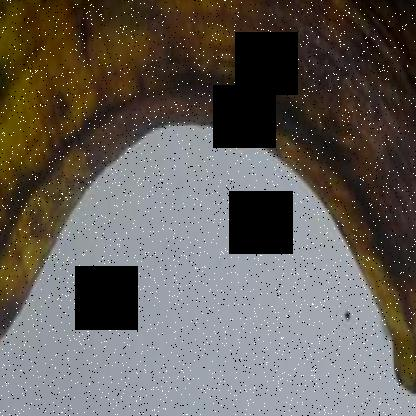overripe: (1, 1, 415, 402)
